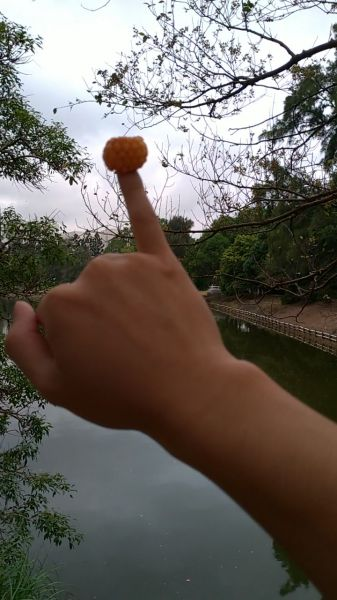eggs: (104, 135, 147, 173)
